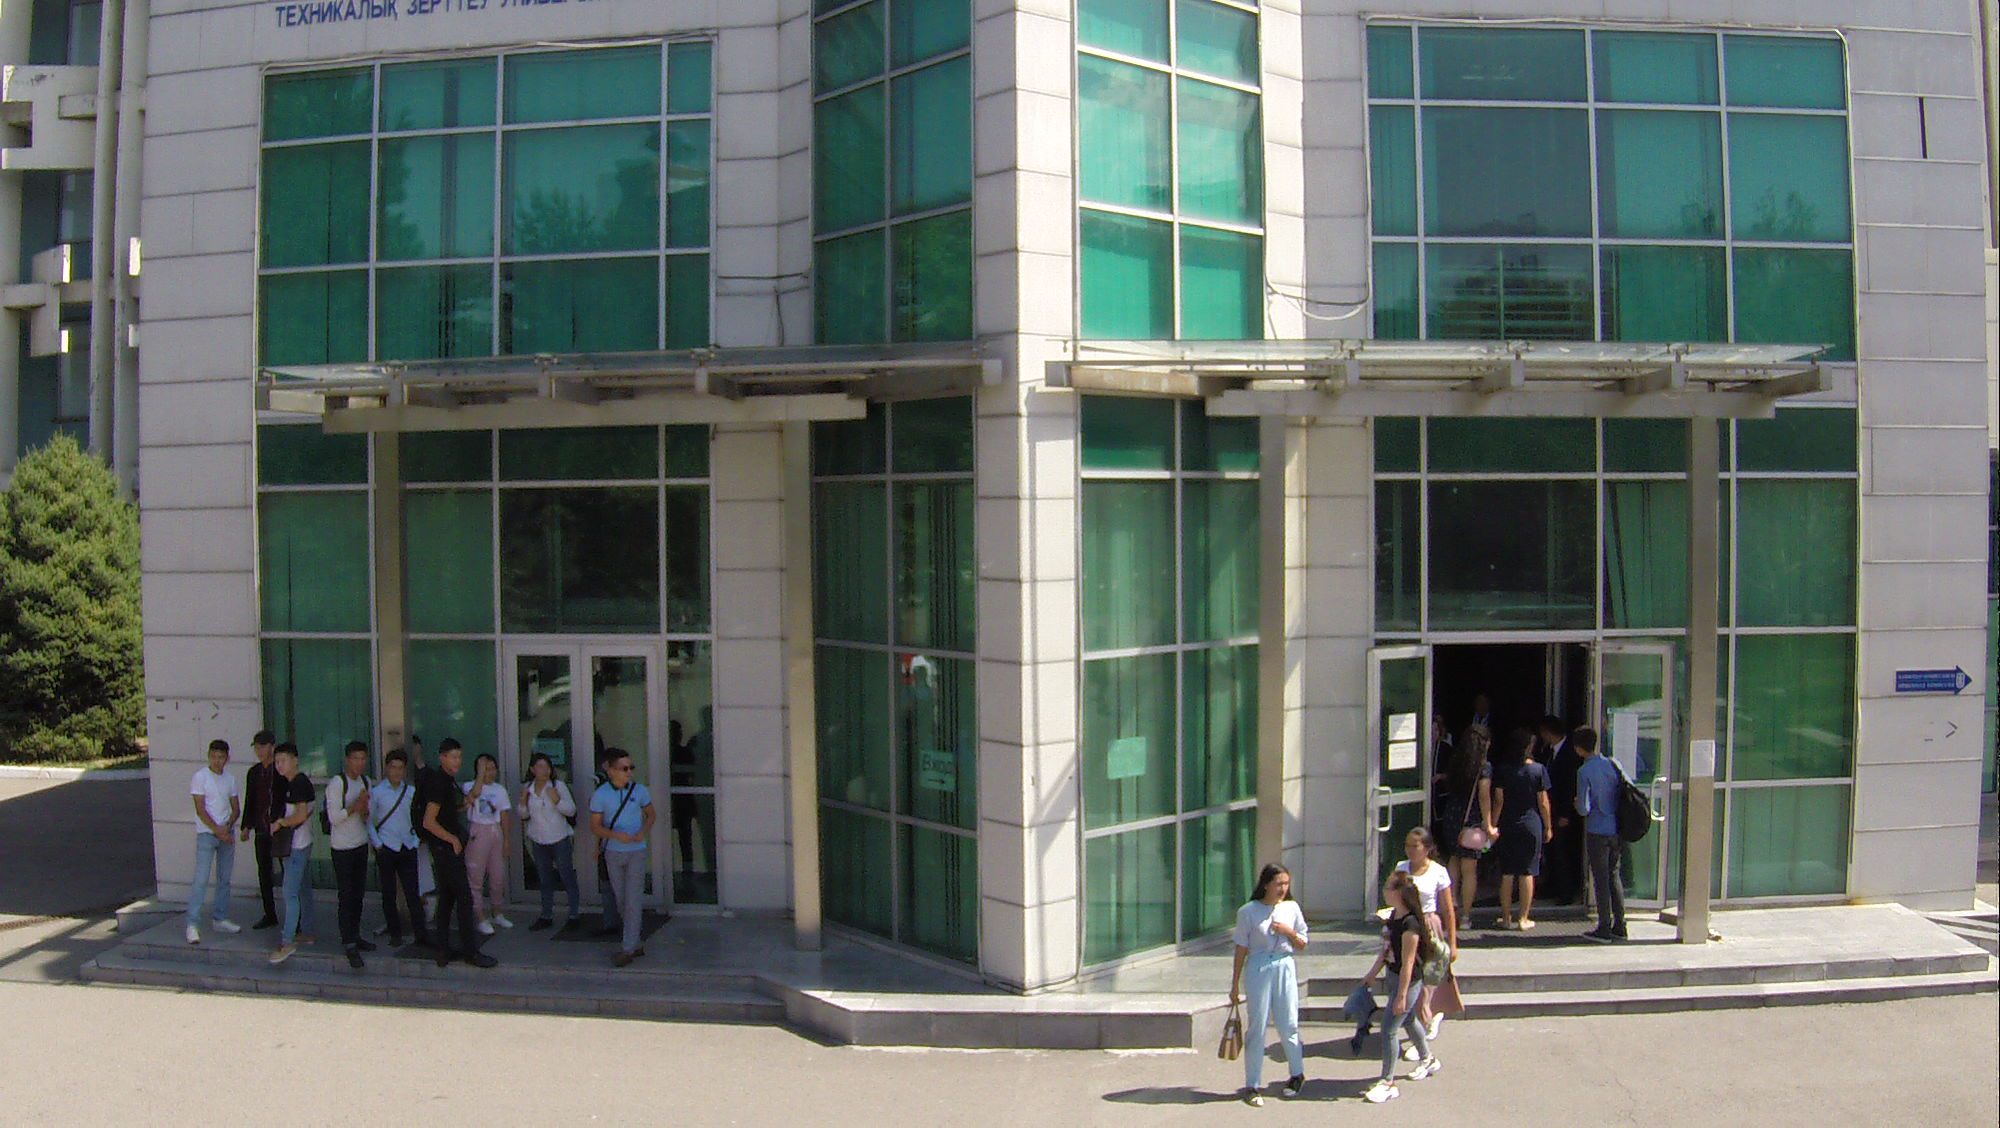person: (1224, 859, 1308, 1108), (1568, 719, 1651, 953), (1361, 871, 1436, 1104), (587, 733, 658, 975), (1484, 727, 1553, 948), (425, 730, 484, 981), (370, 743, 428, 953), (521, 743, 584, 938), (330, 736, 379, 968), (188, 738, 242, 951), (1446, 724, 1496, 944), (462, 754, 519, 939), (274, 742, 318, 975), (1397, 825, 1455, 961), (244, 725, 281, 936)
